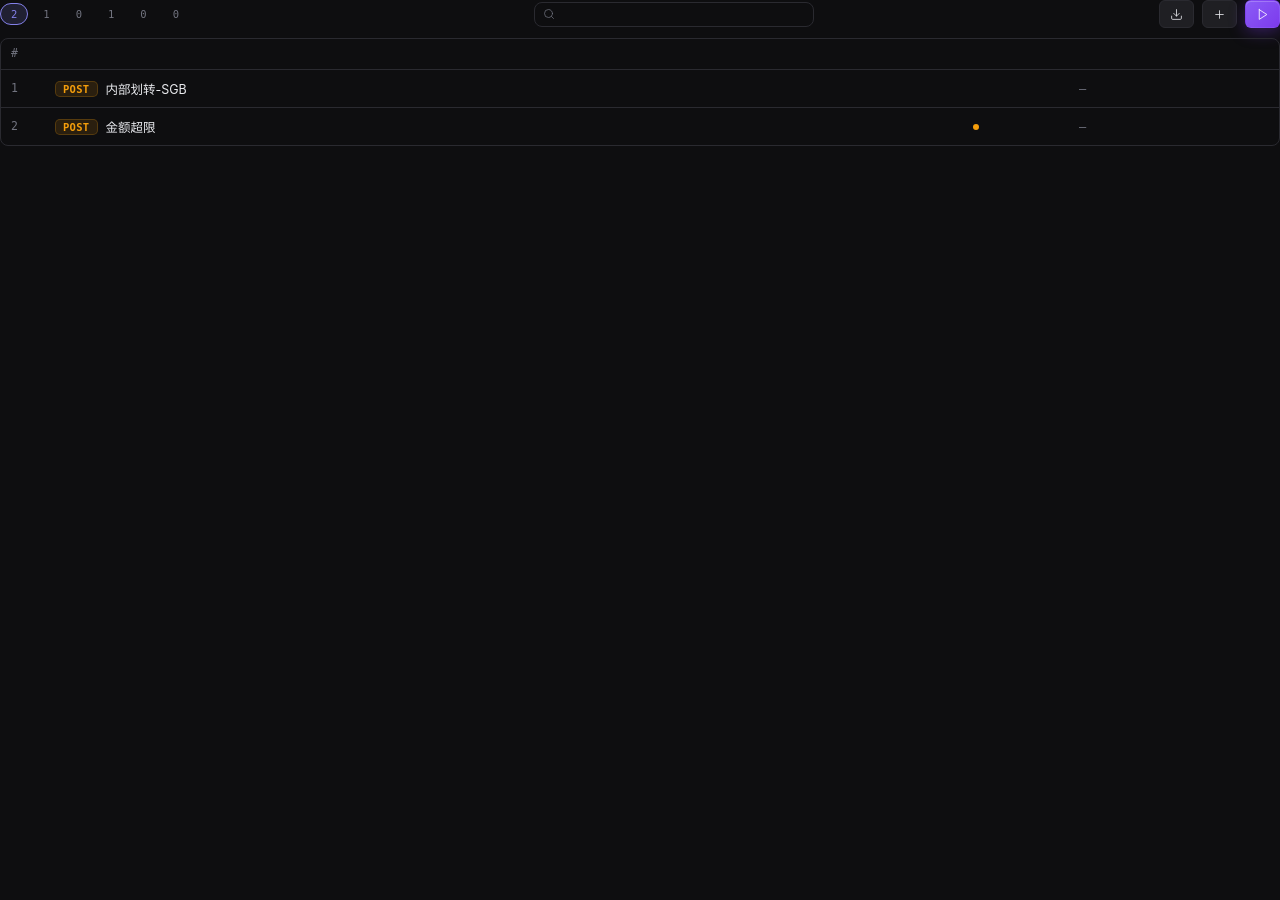
Scenario: TestCasesPanel › 点击用例名称 → 打开抽屉（不切调试页）
Click the button with class "tcp-name-btn" showing "POST 内部划转-SGB" at (76, 88), box [55, 79, 963, 98]
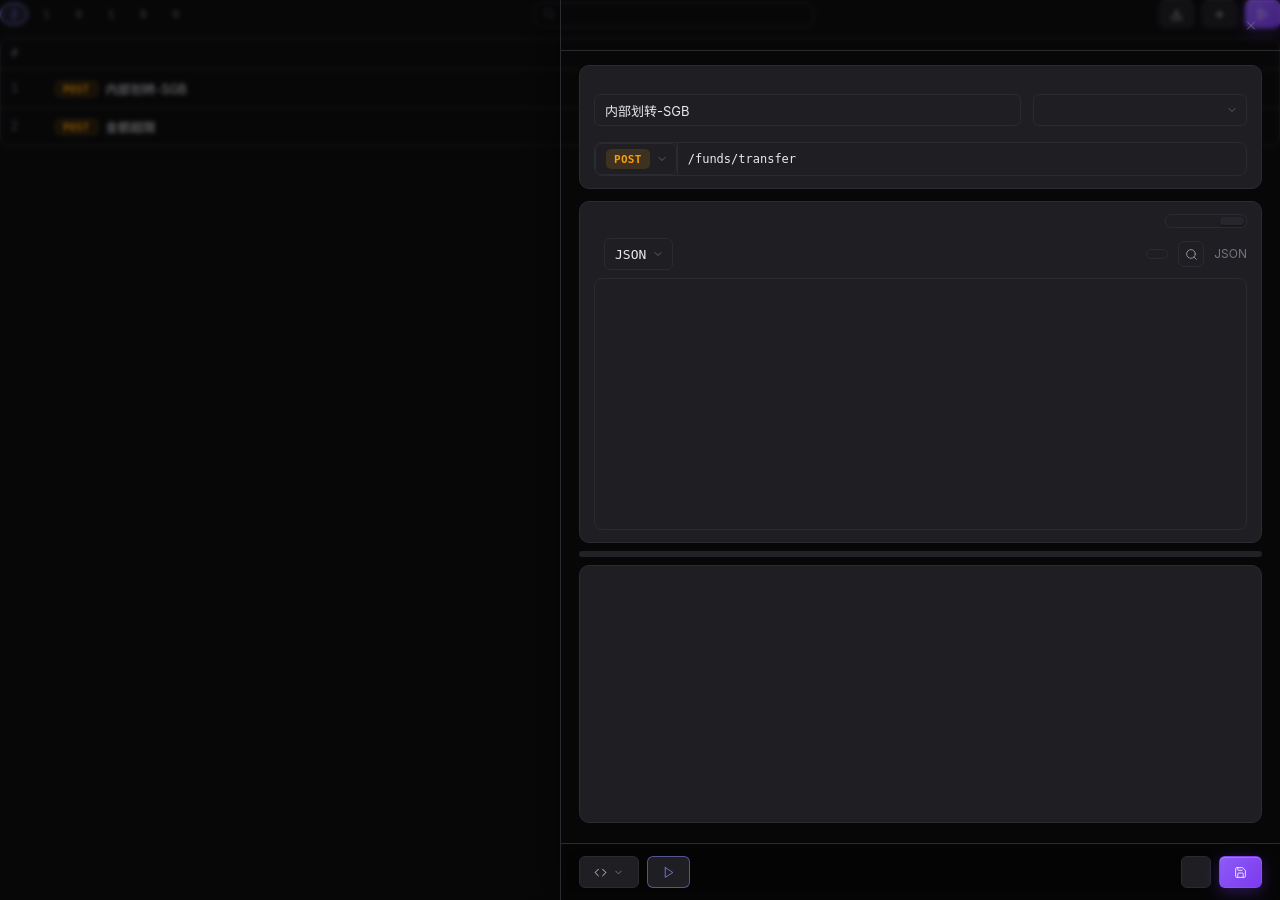
Result: the dialog with class "drw" is shown at [560, 0, 1279, 899]
